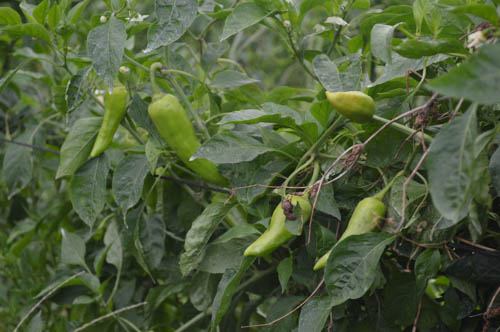ChiliPepper: (149, 98, 230, 185), (311, 199, 385, 263), (241, 197, 312, 262), (90, 89, 130, 155), (326, 91, 375, 122)
